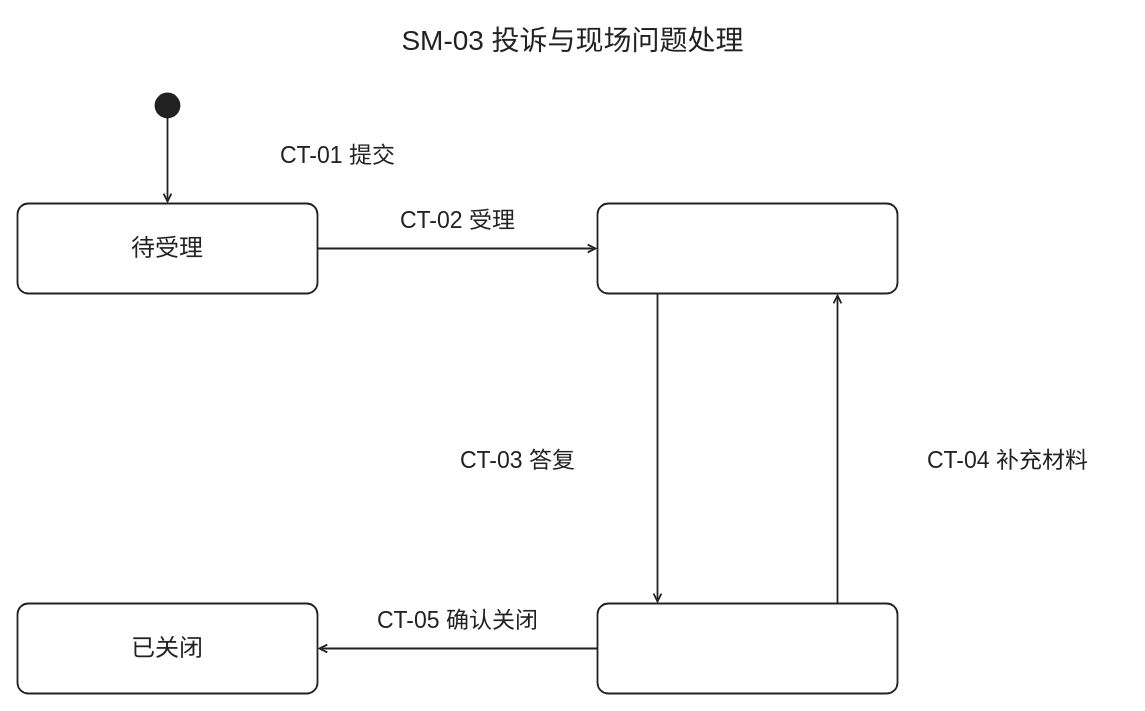
This 1145x711 diagram has some shape labels left out. The shapes that lost their labels are listed below. From the top down, each one's box as (x1, y1, x2, y2) in pixels, then its label:
(596, 202, 898, 294): 处理中
(596, 602, 898, 694): 已答复
